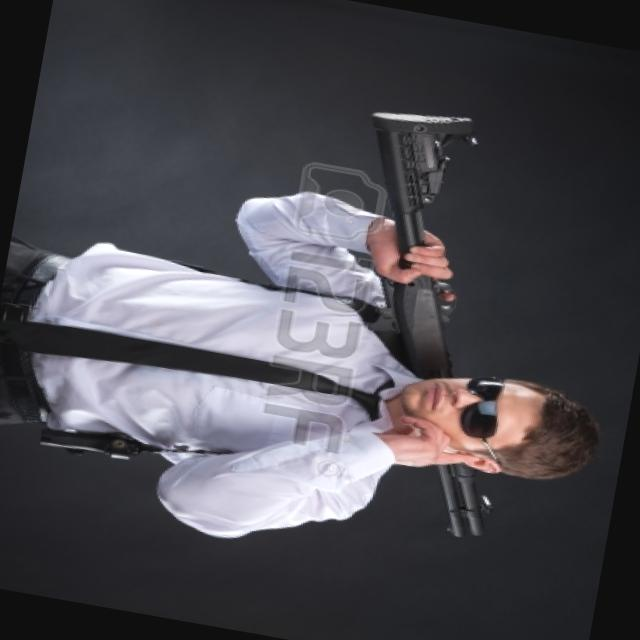handgun: (28, 404, 168, 480)
